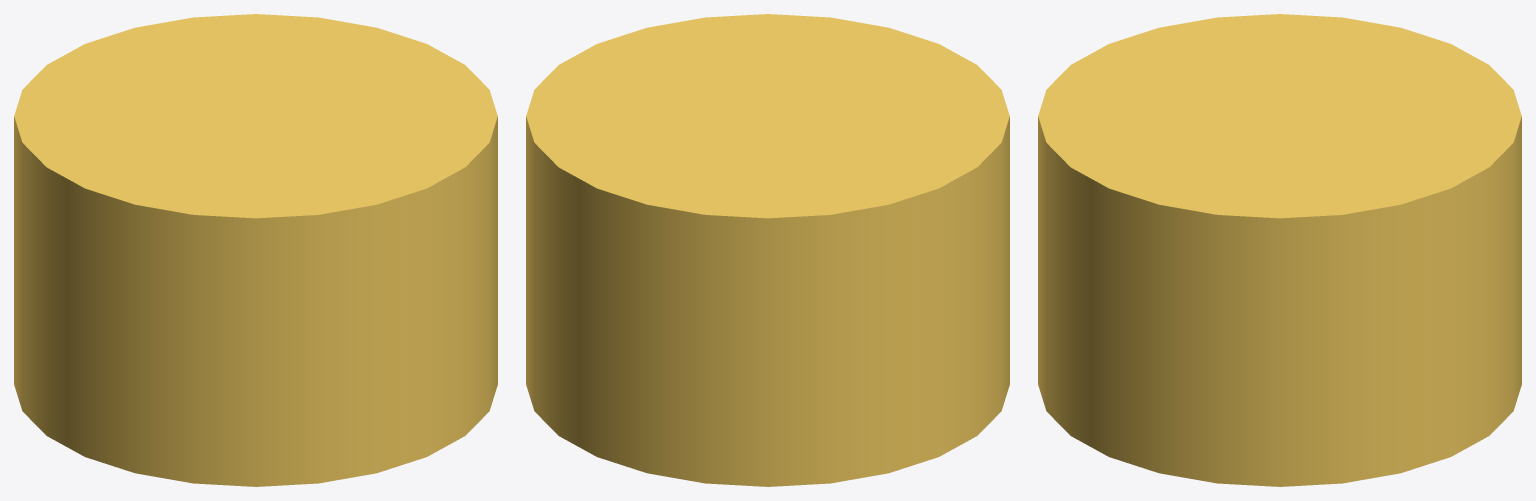
Rendered from Cil_Paralelo_BaseA.fbx.
3 renders of one model, left to right at view 1: azimuth 30°, elevation 25°; view 2: azimuth 150°, elevation 25°; view 3: azimuth 270°, elevation 25°, orthographic.
Visible parts, largest first — view 1: Difference2; view 2: Difference2; view 3: Difference2.
Boxes of the visible parts, x1,y1,x2,y2 form: Difference2: (14, 14, 497, 486); Difference2: (526, 14, 1009, 486); Difference2: (1038, 14, 1521, 486).
Size of the model in its own units: 100 by 61.27 by 100.
